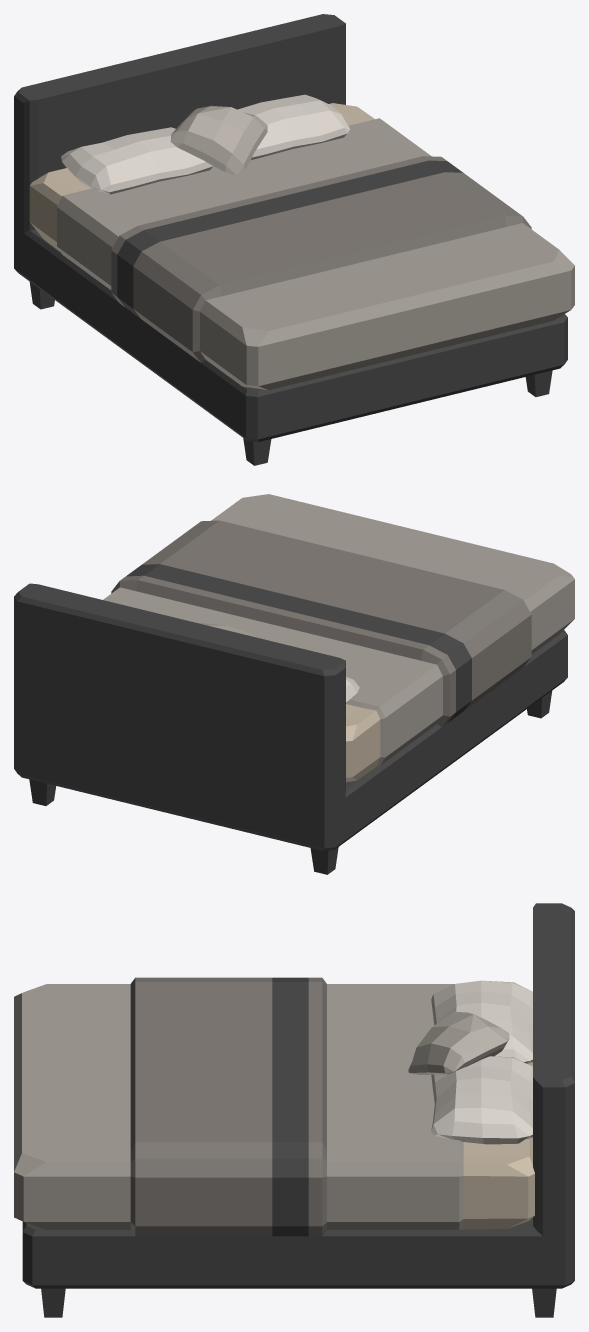
Rendered from SM_Prop_Bed_Double_01.fbx.
The picture shows the model from 3 angles, top to bottom: view 1: azimuth 30°, elevation 25°; view 2: azimuth 150°, elevation 25°; view 3: azimuth 270°, elevation 25°; orthographic projection. The views are drawn at different scales.
Visible parts, largest first — view 1: SM_Prop_Bed_Double_01; view 2: SM_Prop_Bed_Double_01; view 3: SM_Prop_Bed_Double_01.
Boxes of the visible parts, x1,y1,x2,y2 form: SM_Prop_Bed_Double_01: [14, 14, 574, 465]; SM_Prop_Bed_Double_01: [14, 494, 574, 874]; SM_Prop_Bed_Double_01: [14, 903, 574, 1317].
Bounding box in the file's own units: 209 × 125 × 261.
